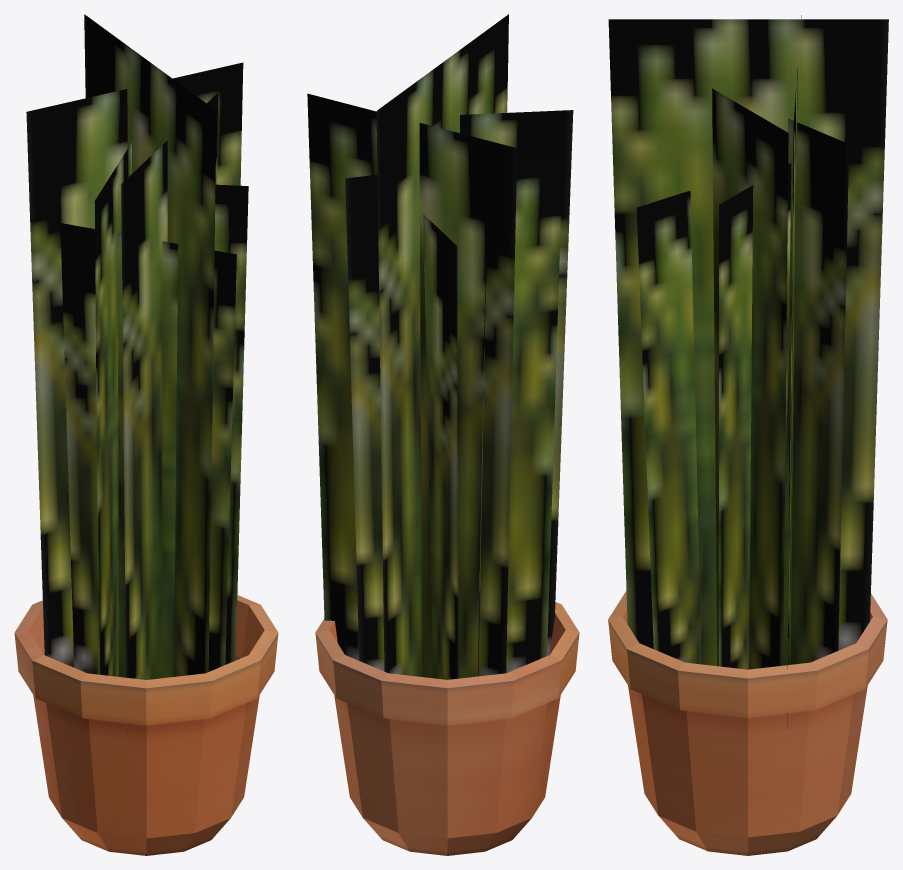
File: SM_Plant_01.fbx
3 renders of one model, left to right at view 1: azimuth 30°, elevation 25°; view 2: azimuth 150°, elevation 25°; view 3: azimuth 270°, elevation 25°, orthographic. The views are drawn at different scales.
Parts seen in each view (by area): view 1: SM_Plant_01; view 2: SM_Plant_01; view 3: SM_Plant_01.
Boxes of the visible parts, x1,y1,x2,y2 form: SM_Plant_01: (14,14,278,855); SM_Plant_01: (307,14,579,855); SM_Plant_01: (608,15,888,855).
Bounding box in the file's own units: 22.9 × 71.5 × 22.6.
